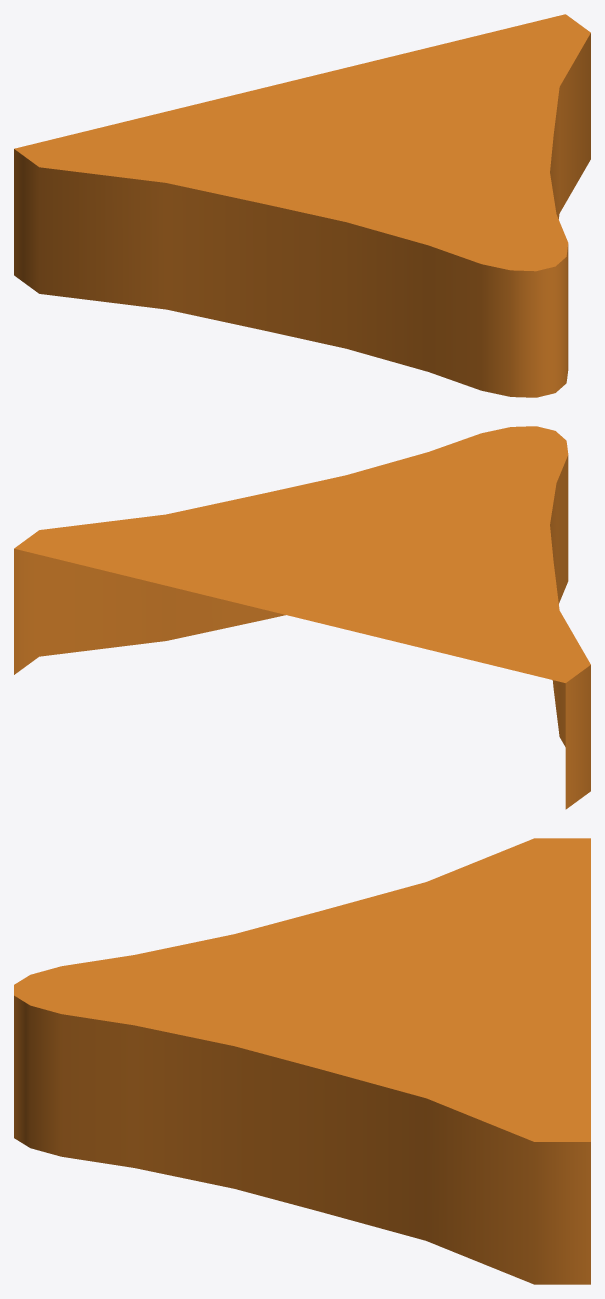
Rendered from Splitter_collider.fbx.
3 views of the same model, one above another, from view 1: azimuth 30°, elevation 25°; view 2: azimuth 150°, elevation 25°; view 3: azimuth 270°, elevation 25° (orthographic). The views are drawn at different scales.
Parts seen in each view (by area): view 1: Splitter_Collider; view 2: Splitter_Collider; view 3: Splitter_Collider.
Boxes of the visible parts, x1,y1,x2,y2 form: Splitter_Collider: (14,14,590,397); Splitter_Collider: (14,426,590,809); Splitter_Collider: (14,838,590,1284).
Size of the model in its own units: 439 by 96.34 by 353.
